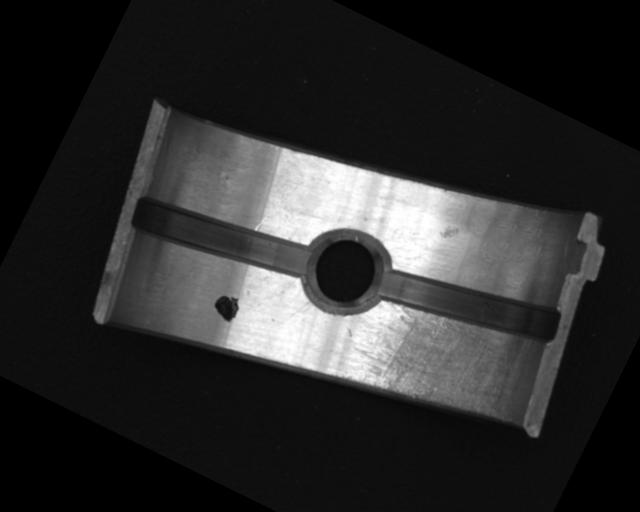blot: (209, 289, 243, 325)
bruise: (437, 220, 462, 244)
gap: (365, 228, 568, 375), (124, 169, 316, 305)
hole: (294, 219, 396, 323)
nick: (252, 170, 303, 240), (280, 292, 312, 332)
scratch: (334, 273, 547, 460)
